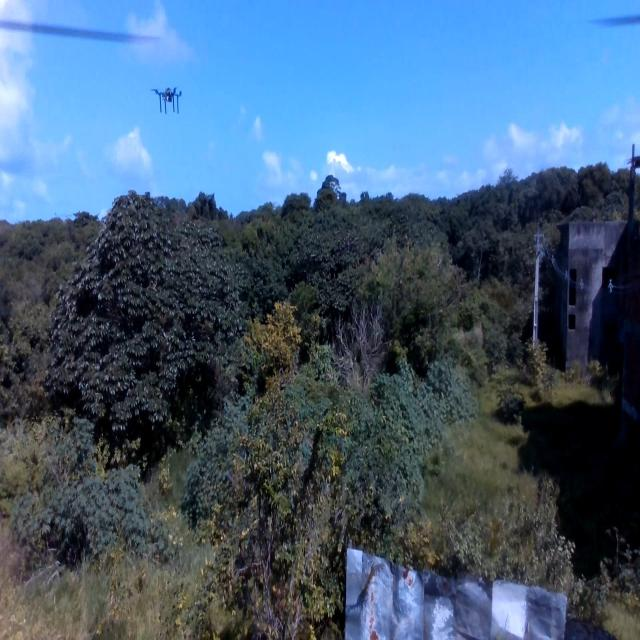-uav-: (146, 75, 191, 126)
